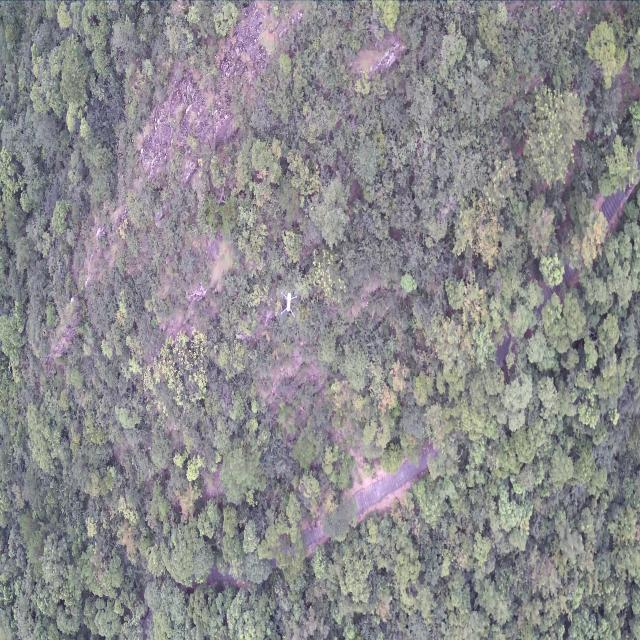UAV: (280, 290, 298, 318)
